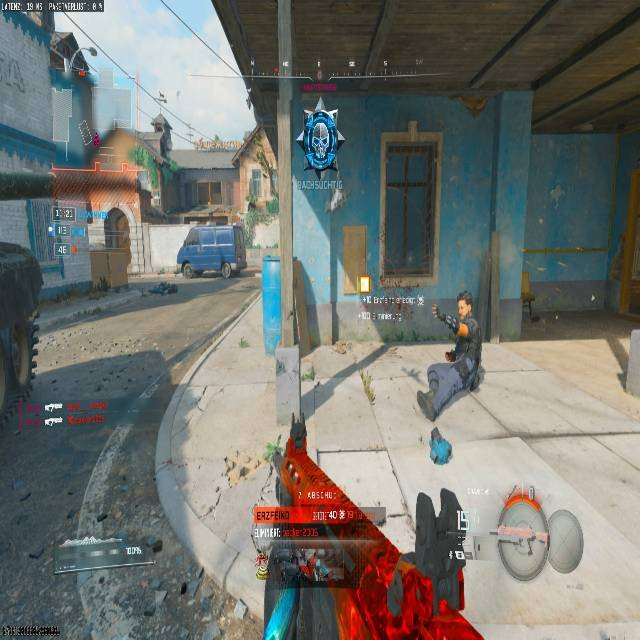head: (456, 290, 473, 316)
player: (435, 290, 483, 398), (300, 100, 345, 183)
